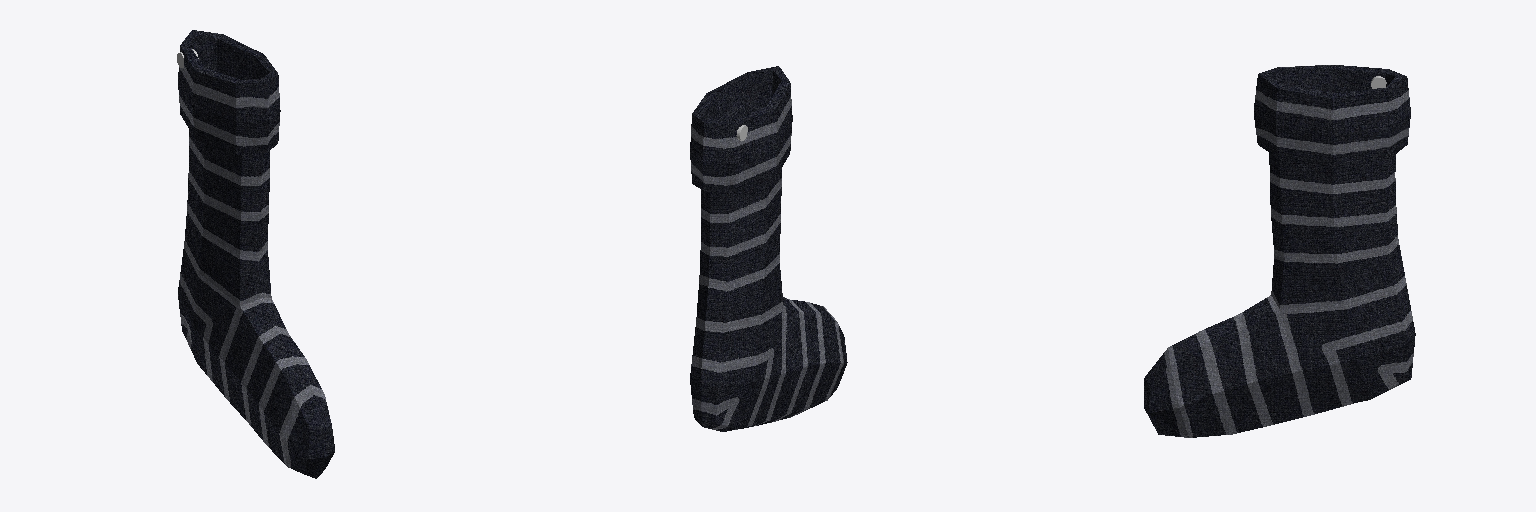
3 views of the same model, side by side, from view 1: azimuth 30°, elevation 25°; view 2: azimuth 150°, elevation 25°; view 3: azimuth 270°, elevation 25° (orthographic).
Visible parts, largest first — view 1: sock; view 2: sock; view 3: sock.
Part boxes in pixels (bbox=[...]): sock: bbox=[178, 30, 334, 478]; sock: bbox=[690, 66, 847, 431]; sock: bbox=[1144, 65, 1415, 437].
Size of the model in its own units: 1.2 by 5.71 by 3.86.
2 materials, 1 textured.